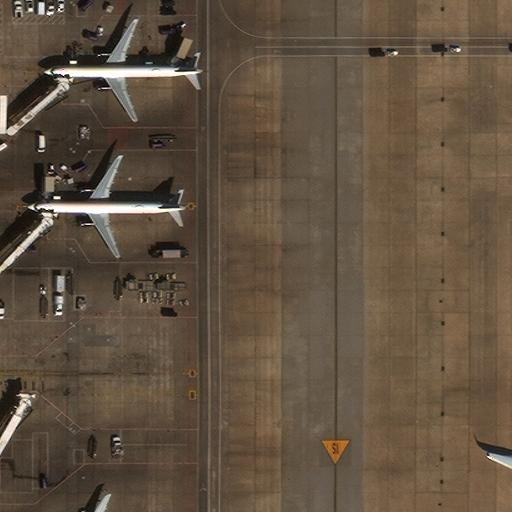Medium Civil Transport: (43, 19, 203, 122), (27, 156, 187, 258)
